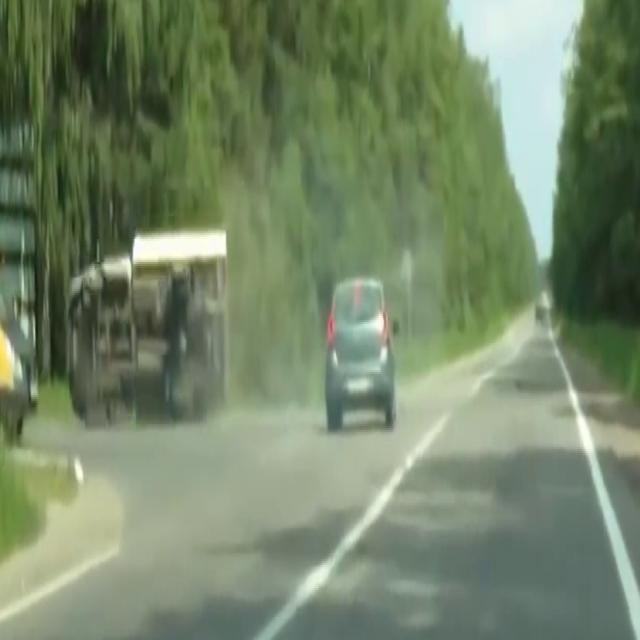accident: (59, 194, 253, 460)
